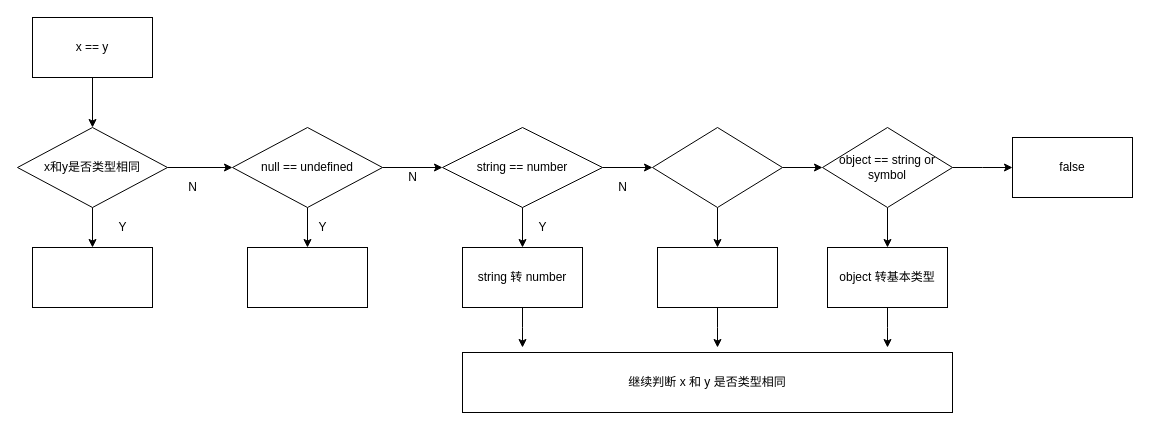
Some shapes in this 1150 by 430 pixel diagram are drawn without their labels. The shapes that lost their labels are listed below. From the top down, each one's centre as x and y in pixels, then its label:
At (717,167): "boolean == any".
At (92,277): "x === y".
At (307,277): "true".
At (717,277): "bool 转 number".
